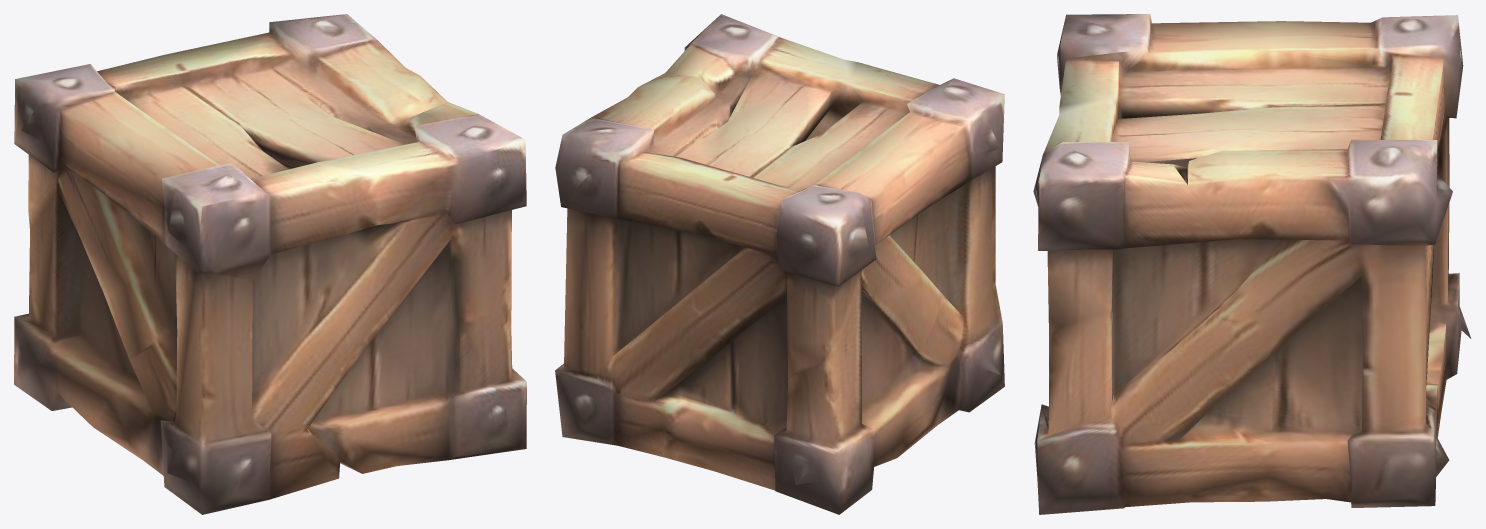
The model's file is container_crate.glb.
3 renders of one model, left to right at view 1: azimuth 30°, elevation 25°; view 2: azimuth 150°, elevation 25°; view 3: azimuth 270°, elevation 25°, orthographic. The views are drawn at different scales.
Visible parts, largest first — view 1: container_crate; view 2: container_crate; view 3: container_crate.
Part boxes in pixels (bbox=[...]): container_crate: bbox=[14, 14, 526, 514]; container_crate: bbox=[555, 14, 1004, 514]; container_crate: bbox=[1033, 14, 1471, 514].
Size of the model in its own units: 0.8721 by 0.8 by 0.903.
Materials: 1 (1 with a texture image).
